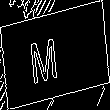M_N: (39, 26, 71, 84)
